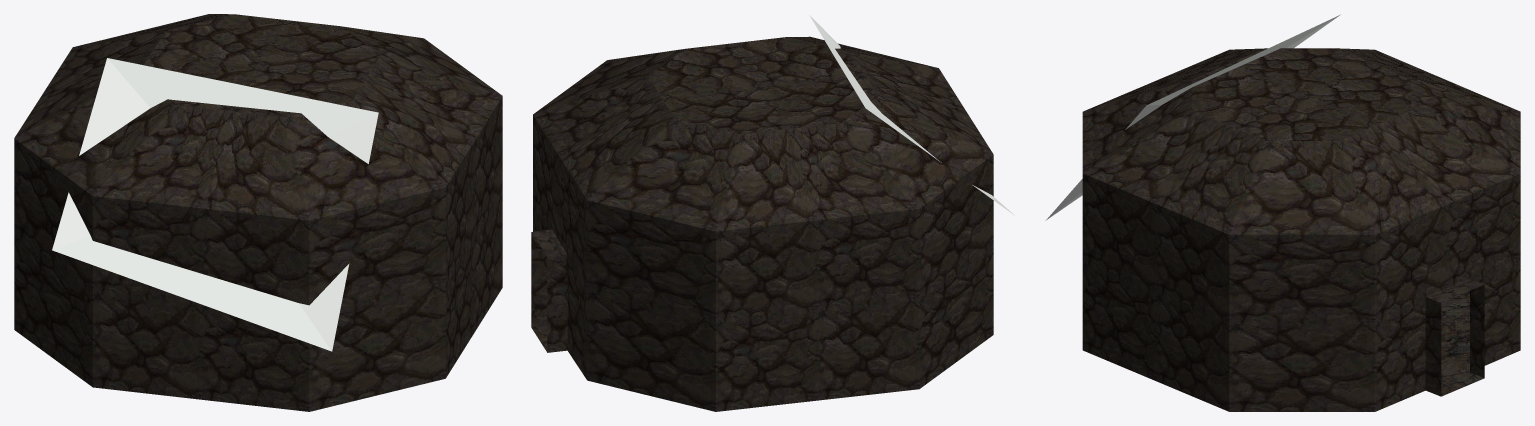
3 views of the same model, side by side, from view 1: azimuth 30°, elevation 25°; view 2: azimuth 150°, elevation 25°; view 3: azimuth 270°, elevation 25° (orthographic). The views are drawn at different scales.
Parts seen in each view (by area): view 1: inside_the_deku_tree_08.dmx; view 2: inside_the_deku_tree_08.dmx; view 3: inside_the_deku_tree_08.dmx.
Part boxes in pixels (x1,y1,x2,y2): inside_the_deku_tree_08.dmx: (14,14,502,411); inside_the_deku_tree_08.dmx: (531,15,1014,411); inside_the_deku_tree_08.dmx: (1045,14,1520,411).
Bounding box in the file's own units: 10.16 × 5.85 × 10.22.
